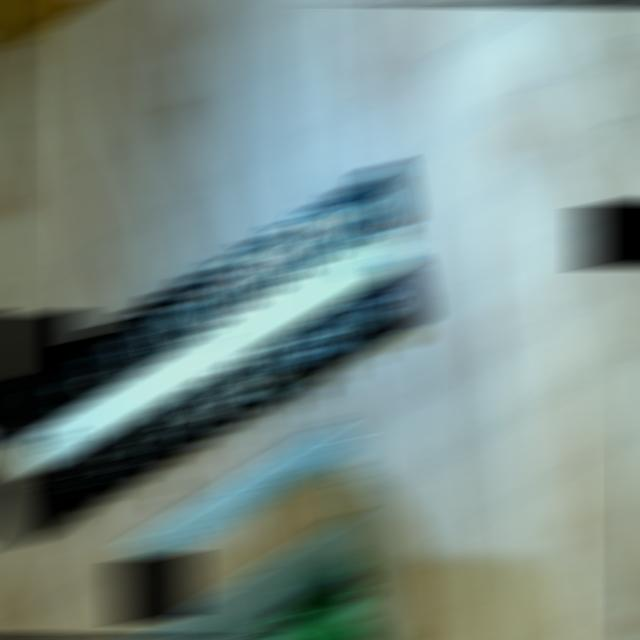Phillips_Block: (0, 163, 470, 545)
